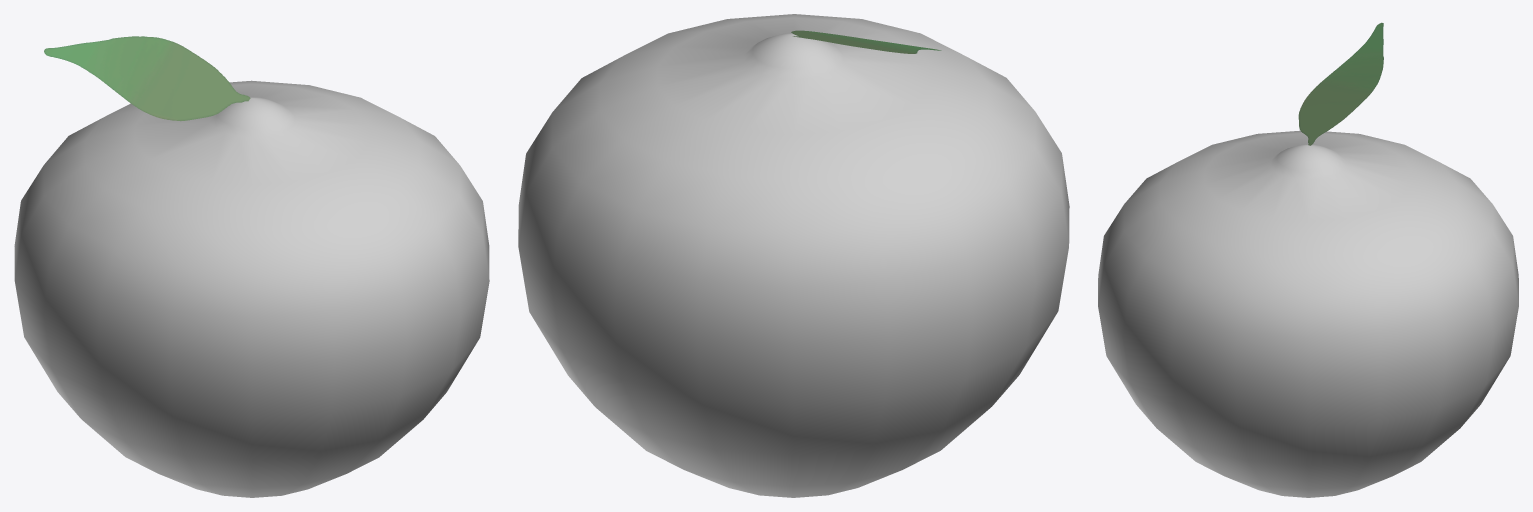
The model's file is Fruit_04.fbx.
3 views of the same model, side by side, from view 1: azimuth 30°, elevation 25°; view 2: azimuth 150°, elevation 25°; view 3: azimuth 270°, elevation 25° (orthographic). The views are drawn at different scales.
Parts seen in each view (by area): view 1: Fruit_04; view 2: Fruit_04; view 3: Fruit_04.
Part boxes in pixels (x1,y1,x2,y2): Fruit_04: (14, 36, 489, 497); Fruit_04: (518, 14, 1069, 497); Fruit_04: (1098, 22, 1518, 497).
Size of the model in its own units: 23.93 by 25.35 by 23.69.
